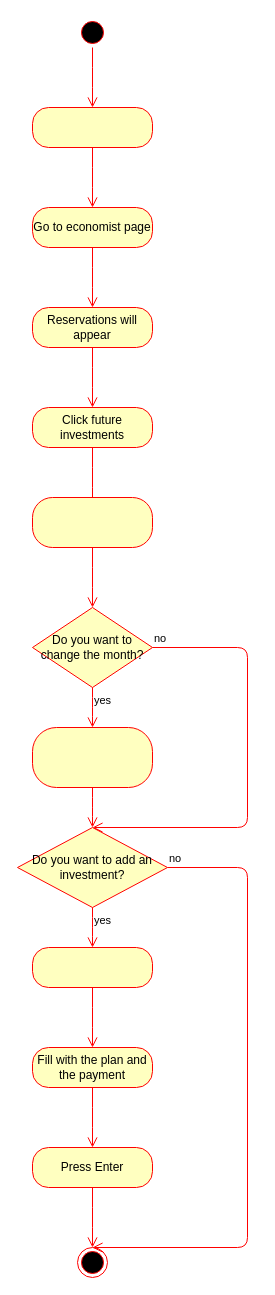
Image size: 275x1295. Some labels were removed from this diagram. The centre of each missing label's shape, as x and y in pixels:
"Click the Add new button" goes at (92,967).
"Go to main menu" goes at (92,127).
"Investments planned for that month will appear" goes at (92,757).
"Investments planned for the next month will appear" goes at (92,522).
